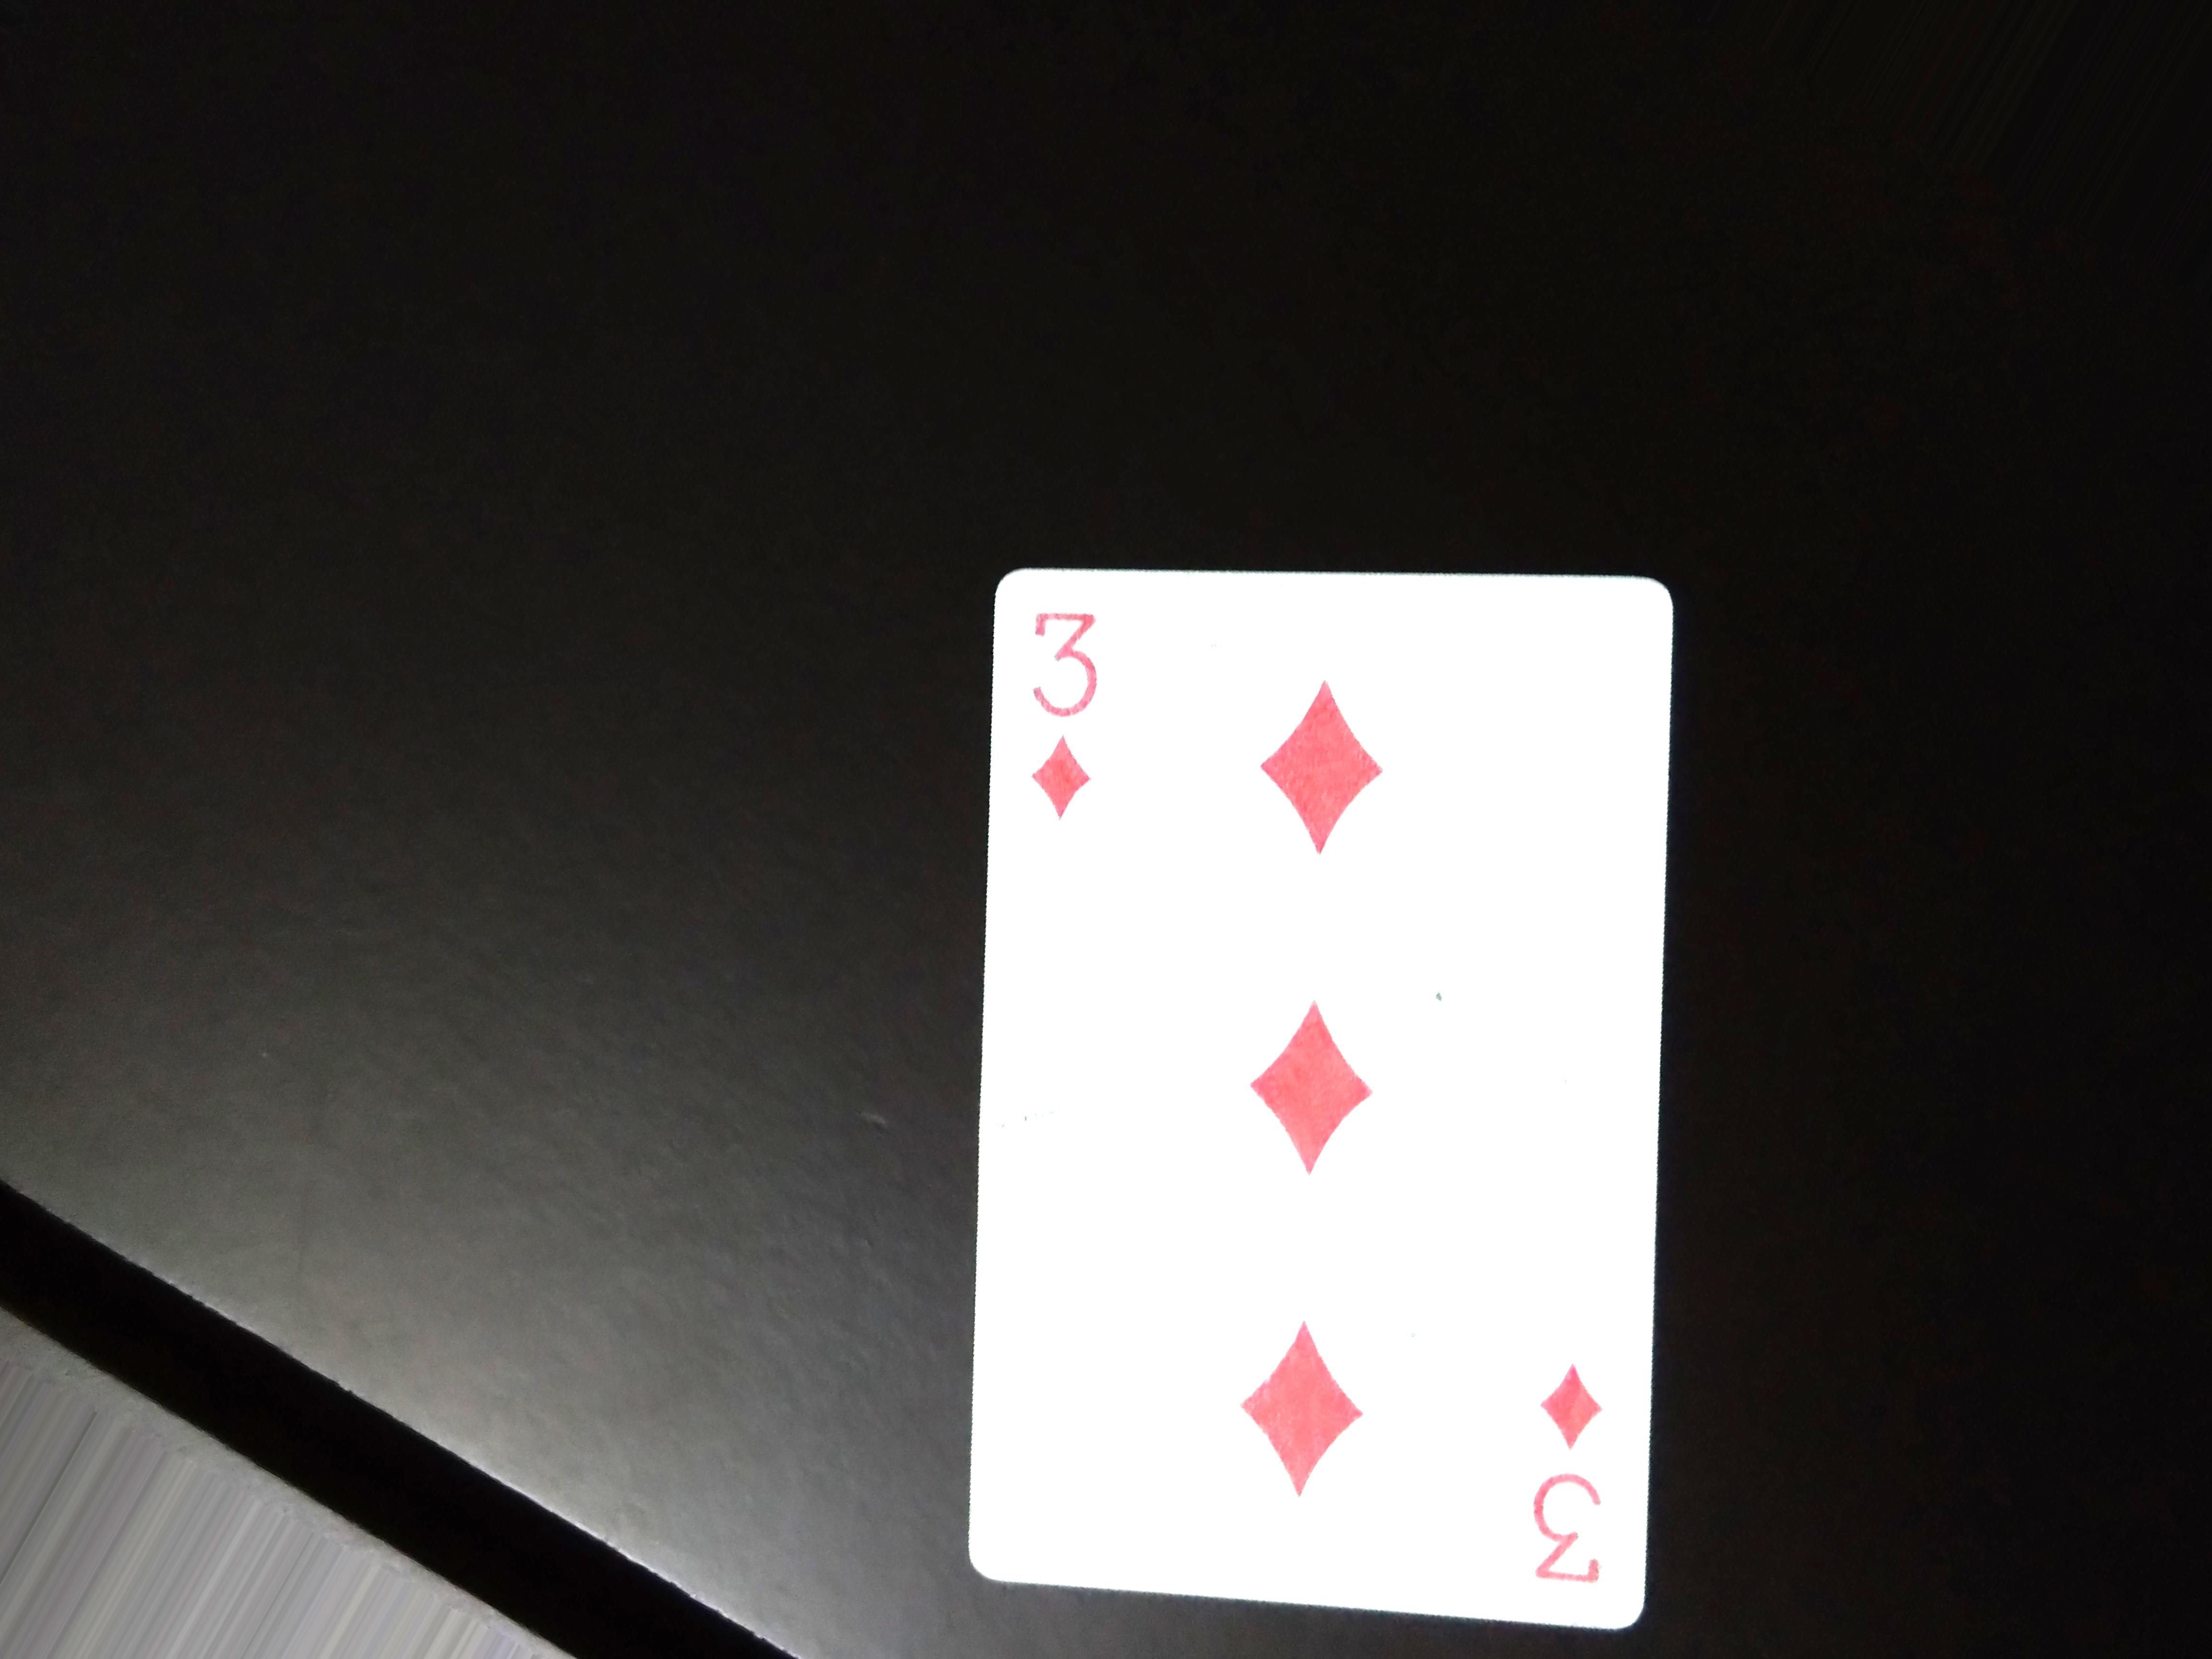3D: (1015, 577, 1123, 857)
